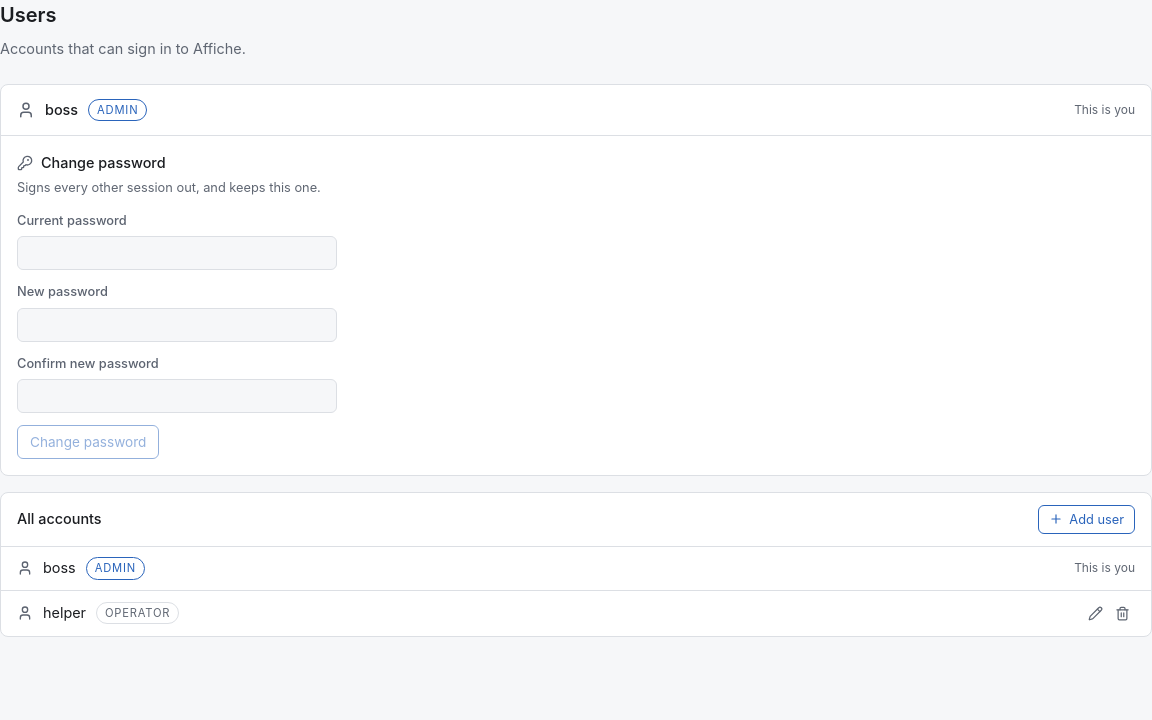
Test: UsersSettings role changes › opens on the role the account already has
Click the button named "Edit helper".
click(1096, 613)  # box [1083, 601, 1108, 626]
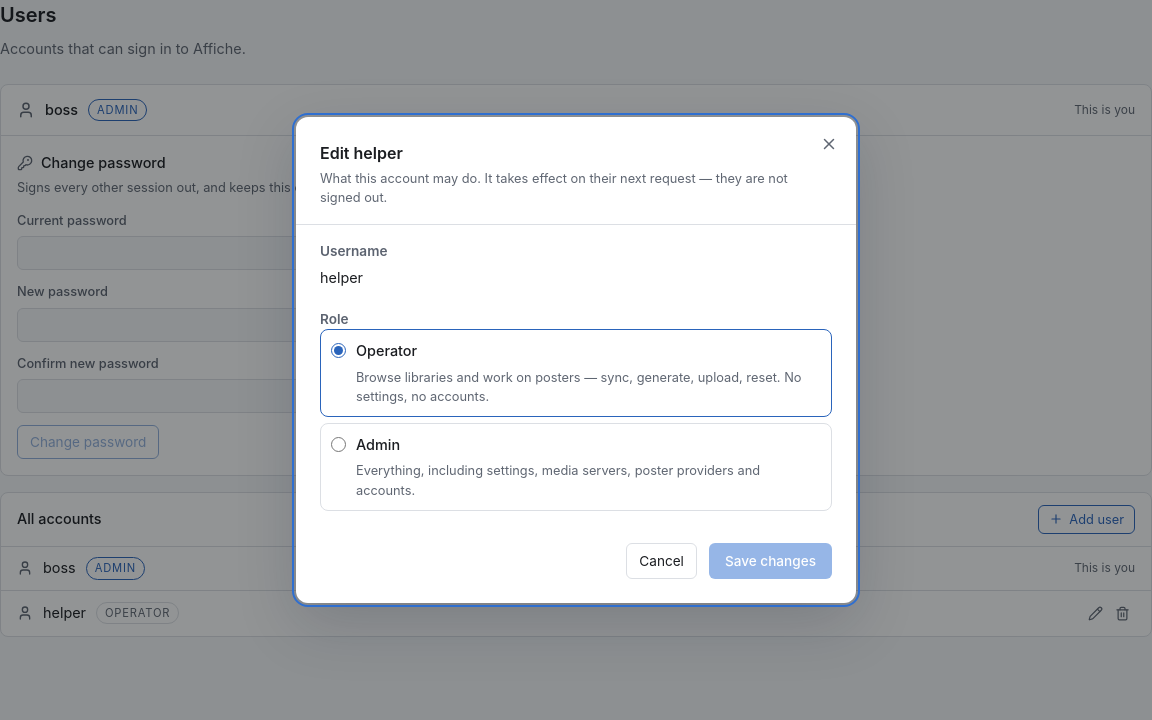
Expected: the radio button labelled "Operator" is checked, [331, 343, 346, 358]
Expected: the radio button labelled "Admin" is not checked, [331, 437, 346, 452]
